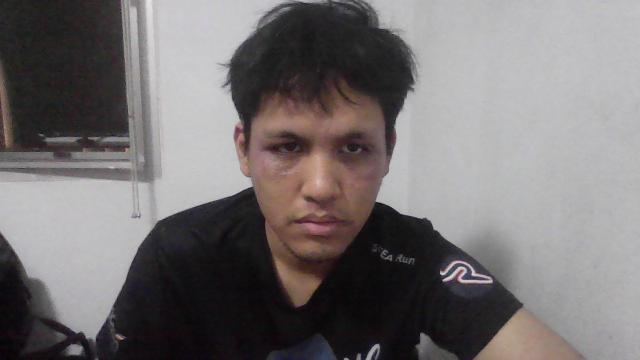fokus: (231, 82, 398, 264)
